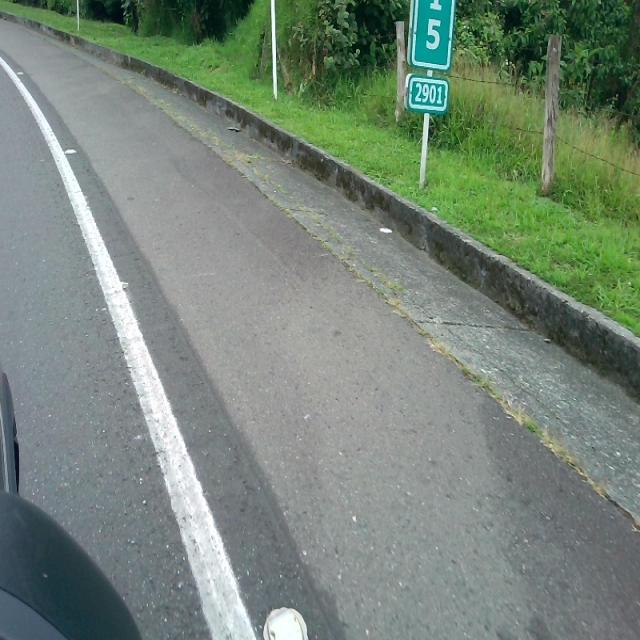DITCH: (1, 18, 638, 637), (1, 121, 638, 638)
